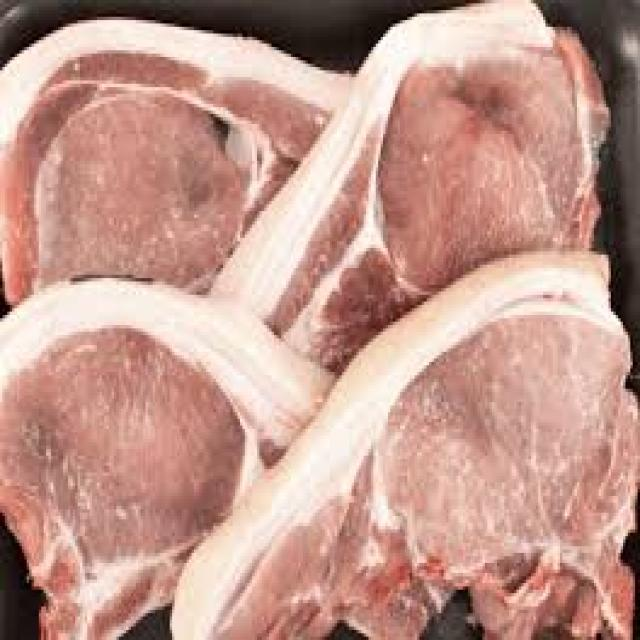Pork: (172, 252, 640, 638), (0, 283, 332, 638), (0, 21, 349, 303), (380, 31, 608, 295)
